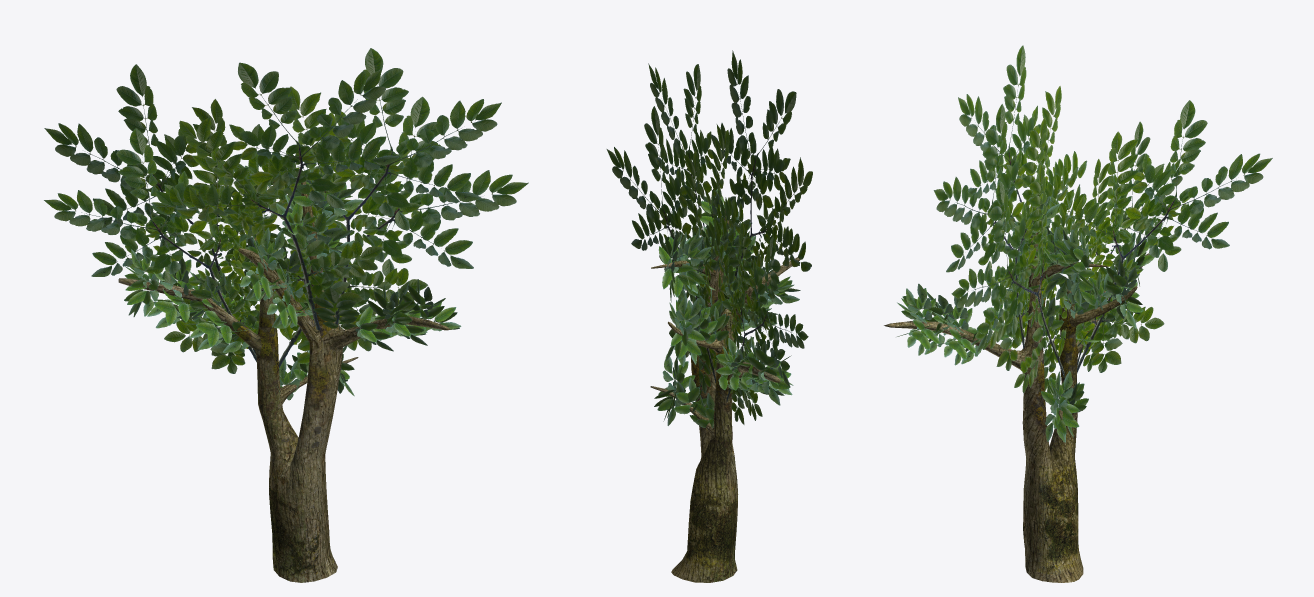
The model's file is tree7.FBX.
3 renders of one model, left to right at view 1: azimuth 30°, elevation 25°; view 2: azimuth 150°, elevation 25°; view 3: azimuth 270°, elevation 25°, orthographic. The views are drawn at different scales.
Visible parts, largest first — view 1: Plane2186, tree7uv; view 2: Plane2186, tree7uv; view 3: Plane2186, tree7uv.
Boxes of the visible parts, x1,y1,x2,y2 form: Plane2186: (44, 48, 528, 400); tree7uv: (118, 181, 450, 582); Plane2186: (606, 50, 812, 428); tree7uv: (650, 197, 800, 582); Plane2186: (897, 45, 1272, 442); tree7uv: (884, 207, 1149, 582).
Size of the model in its own units: 977 by 1320 by 969.
